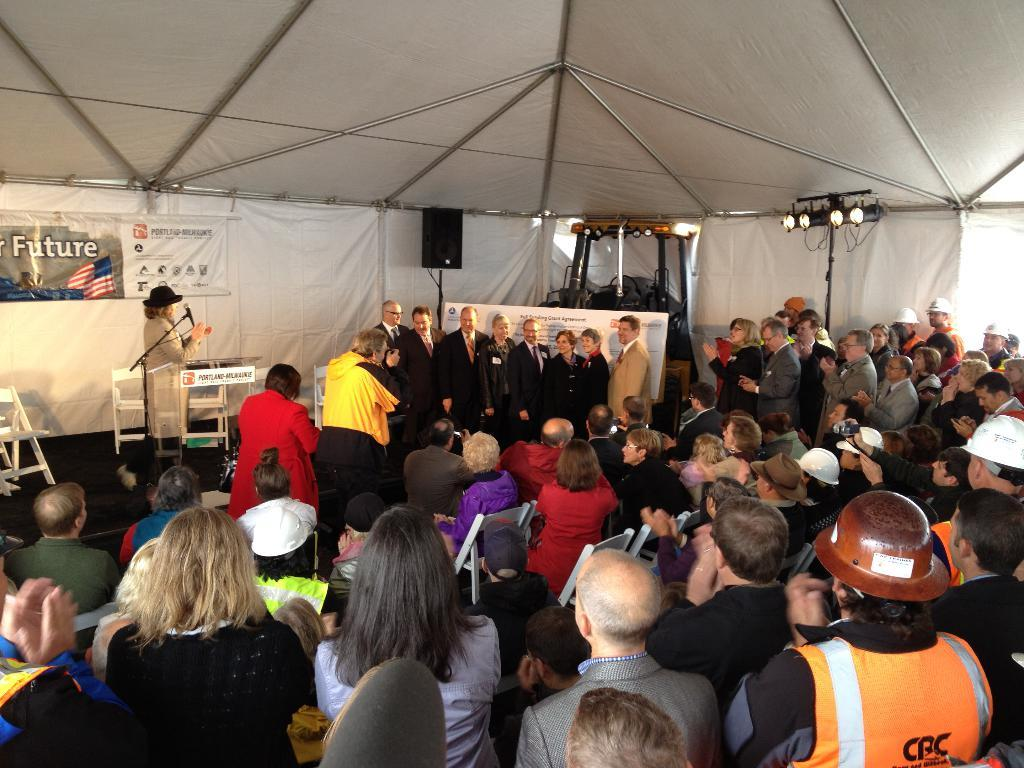helmet: (813, 489, 950, 624), (960, 415, 1024, 490), (251, 507, 309, 573), (794, 448, 840, 496), (836, 427, 884, 469), (925, 298, 954, 326), (982, 322, 1010, 351), (893, 307, 920, 335)
nohelmet: (156, 505, 252, 626), (359, 504, 450, 631), (563, 686, 690, 768), (574, 547, 663, 652), (709, 494, 791, 590), (948, 487, 1024, 579), (523, 604, 598, 695), (32, 480, 89, 544), (481, 517, 530, 586), (749, 452, 808, 507), (155, 463, 203, 518), (344, 491, 388, 550), (252, 447, 293, 506), (704, 476, 752, 524), (557, 437, 597, 488), (930, 446, 975, 490), (461, 430, 501, 476), (263, 362, 303, 406), (973, 371, 1011, 416), (621, 427, 663, 467), (903, 423, 942, 466), (721, 415, 763, 454), (351, 327, 389, 368), (141, 285, 184, 320), (826, 397, 866, 434), (757, 410, 793, 448), (956, 358, 993, 394), (692, 432, 726, 471), (540, 417, 575, 452), (842, 327, 875, 363), (585, 403, 614, 440), (688, 381, 717, 415), (428, 418, 455, 454), (761, 319, 789, 353), (884, 354, 914, 384), (924, 331, 954, 360), (622, 394, 647, 428), (731, 318, 760, 347), (912, 346, 941, 375), (617, 314, 642, 346), (411, 303, 433, 337), (795, 316, 819, 344), (867, 322, 890, 351), (1003, 357, 1024, 388), (380, 299, 403, 327), (555, 328, 578, 356), (783, 295, 806, 322), (580, 327, 602, 355), (459, 305, 479, 334), (491, 313, 511, 342), (522, 318, 540, 345)
